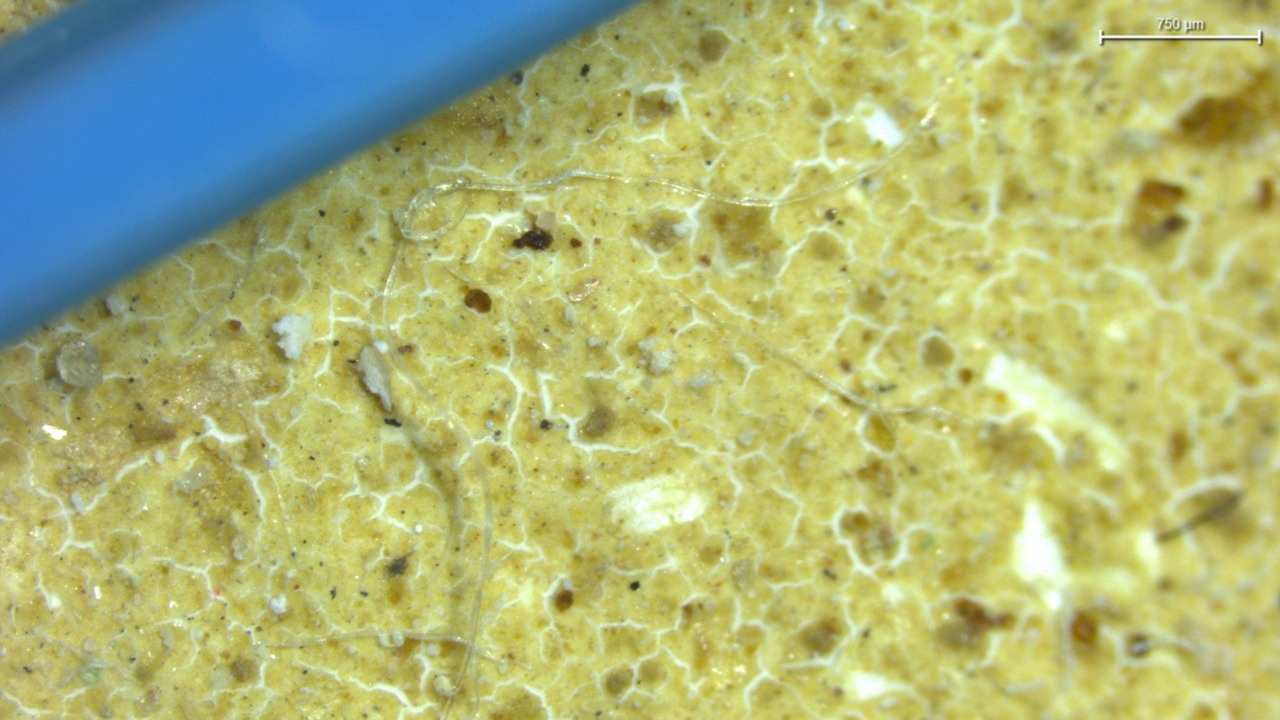microplastic_fragment: (357, 346, 392, 412), (271, 314, 313, 361)
